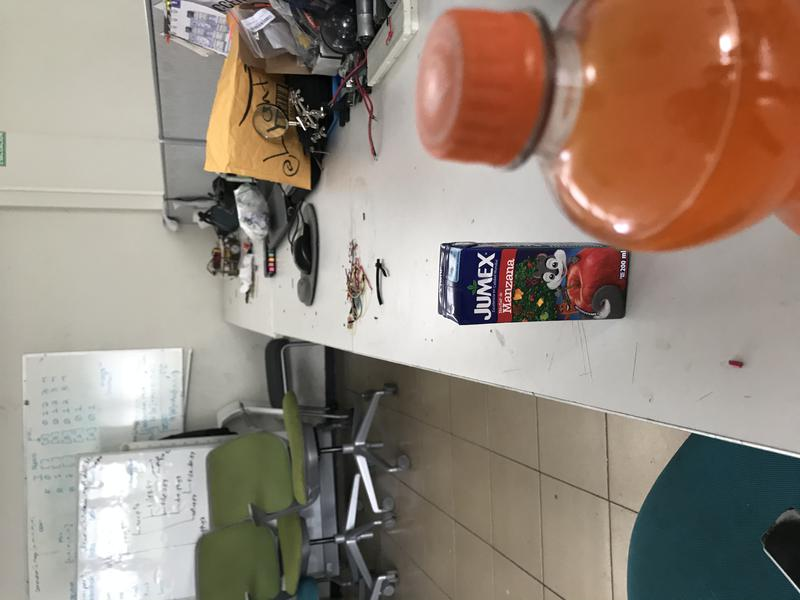fanta: (414, 1, 800, 253)
jumex_cajita: (438, 240, 631, 322)
